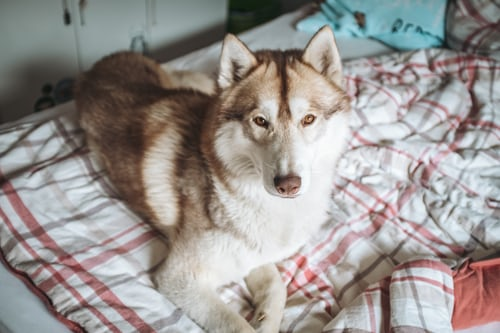husky: (123, 15, 361, 244)
